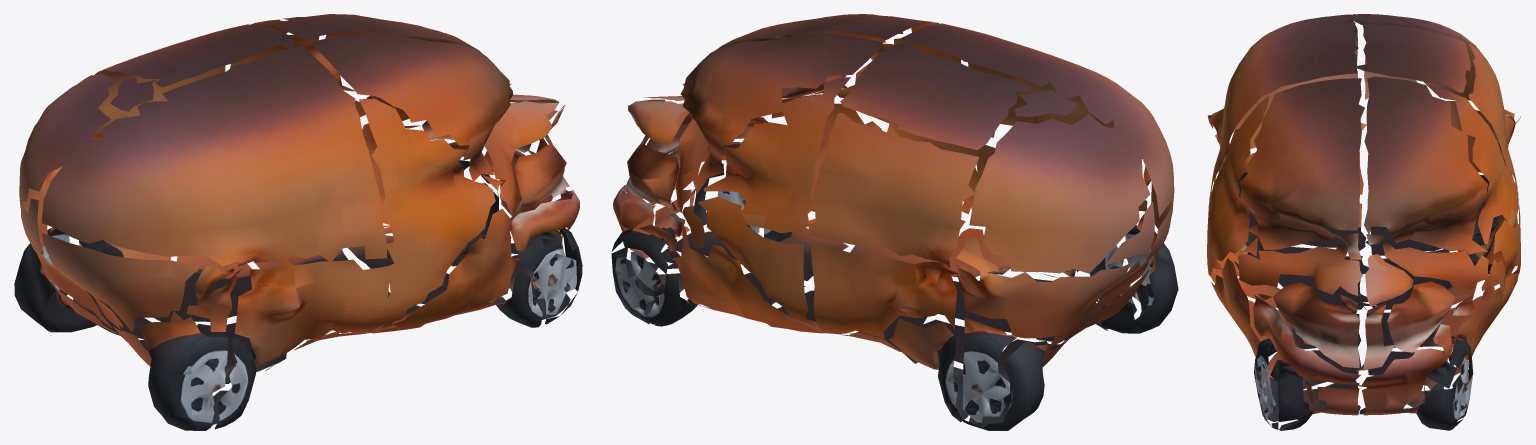
File: karota.glb
3 renders of one model, left to right at view 1: azimuth 30°, elevation 25°; view 2: azimuth 150°, elevation 25°; view 3: azimuth 270°, elevation 25°, orthographic. The views are drawn at different scales.
Visible parts, largest first — view 1: tripo_node_f7dd22cd; view 2: tripo_node_f7dd22cd; view 3: tripo_node_f7dd22cd.
Part boxes in pixels (x1=…): tripo_node_f7dd22cd: x1=14, y1=14, x2=582, y2=430; tripo_node_f7dd22cd: x1=611, y1=14, x2=1178, y2=430; tripo_node_f7dd22cd: x1=1207, y1=14, x2=1520, y2=430.
Bounding box in the file's own units: 0.9992 × 0.5333 × 0.5691.
Materials: 1 (1 with a texture image).
